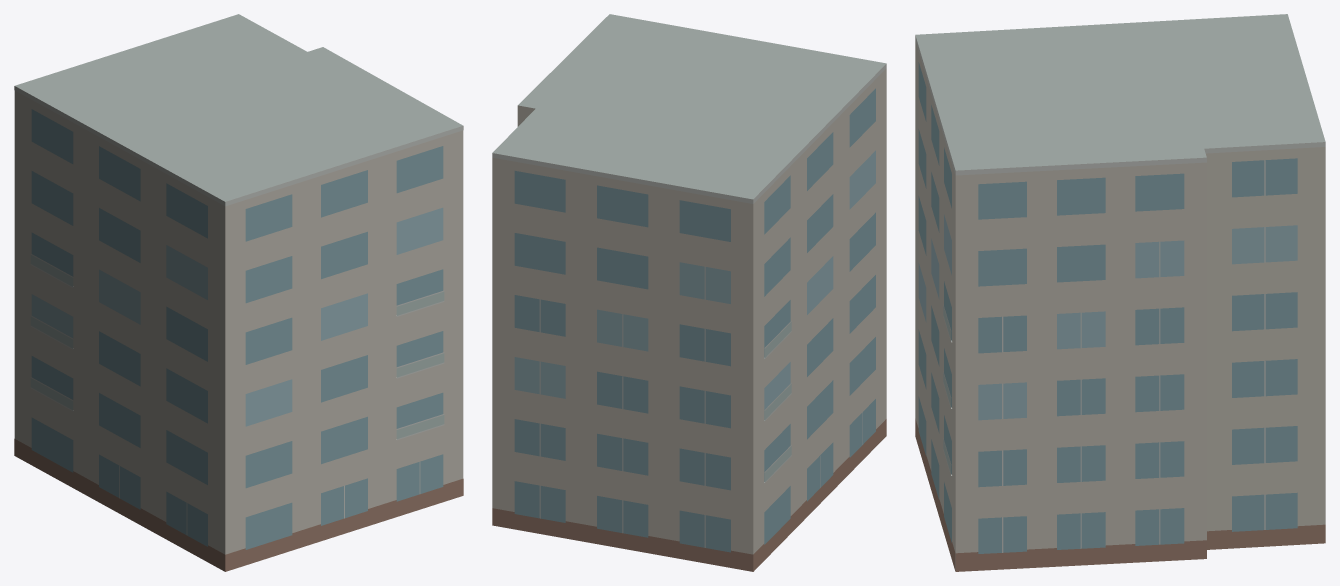
File: survey-upis-33004230.glb
3 renders of one model, left to right at view 1: azimuth 30°, elevation 25°; view 2: azimuth 150°, elevation 25°; view 3: azimuth 270°, elevation 25°, orthographic. The views are drawn at different scales.
Parts seen in each view (by area): view 1: survey-upis-33004230.tmp; view 2: survey-upis-33004230.tmp; view 3: survey-upis-33004230.tmp.
Boxes of the visible parts, <box> form: survey-upis-33004230.tmp: <box>14,14,463,571</box>; survey-upis-33004230.tmp: <box>492,14,886,571</box>; survey-upis-33004230.tmp: <box>915,14,1325,571</box>.
Bounding box in the file's own units: 16.66 × 19.9 × 18.45.
